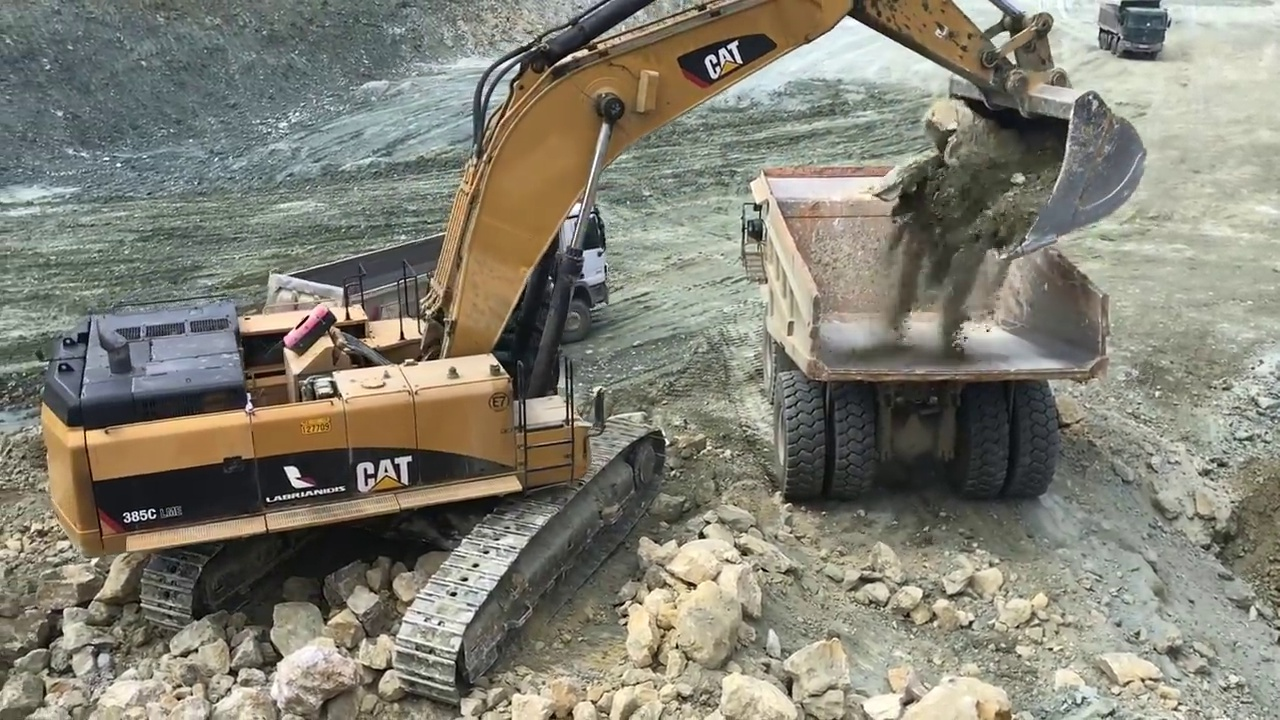dumper: (748, 157, 1110, 514)
excavator: (39, 1, 1148, 710)
truck: (1093, 1, 1166, 51)
